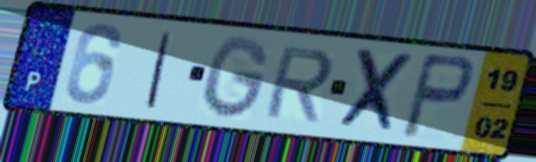6: (62, 21, 123, 106)
G: (200, 33, 273, 122)
I: (142, 29, 176, 112)
P: (398, 50, 477, 142)
R: (260, 44, 337, 125)
X: (334, 46, 418, 138)
